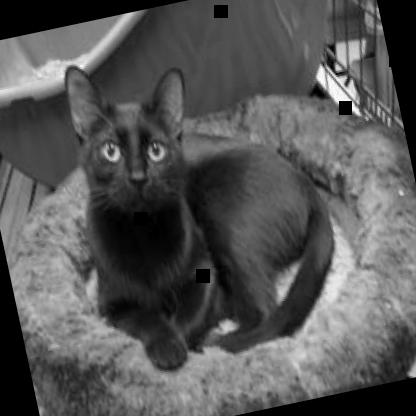cat: (52, 19, 354, 382)
